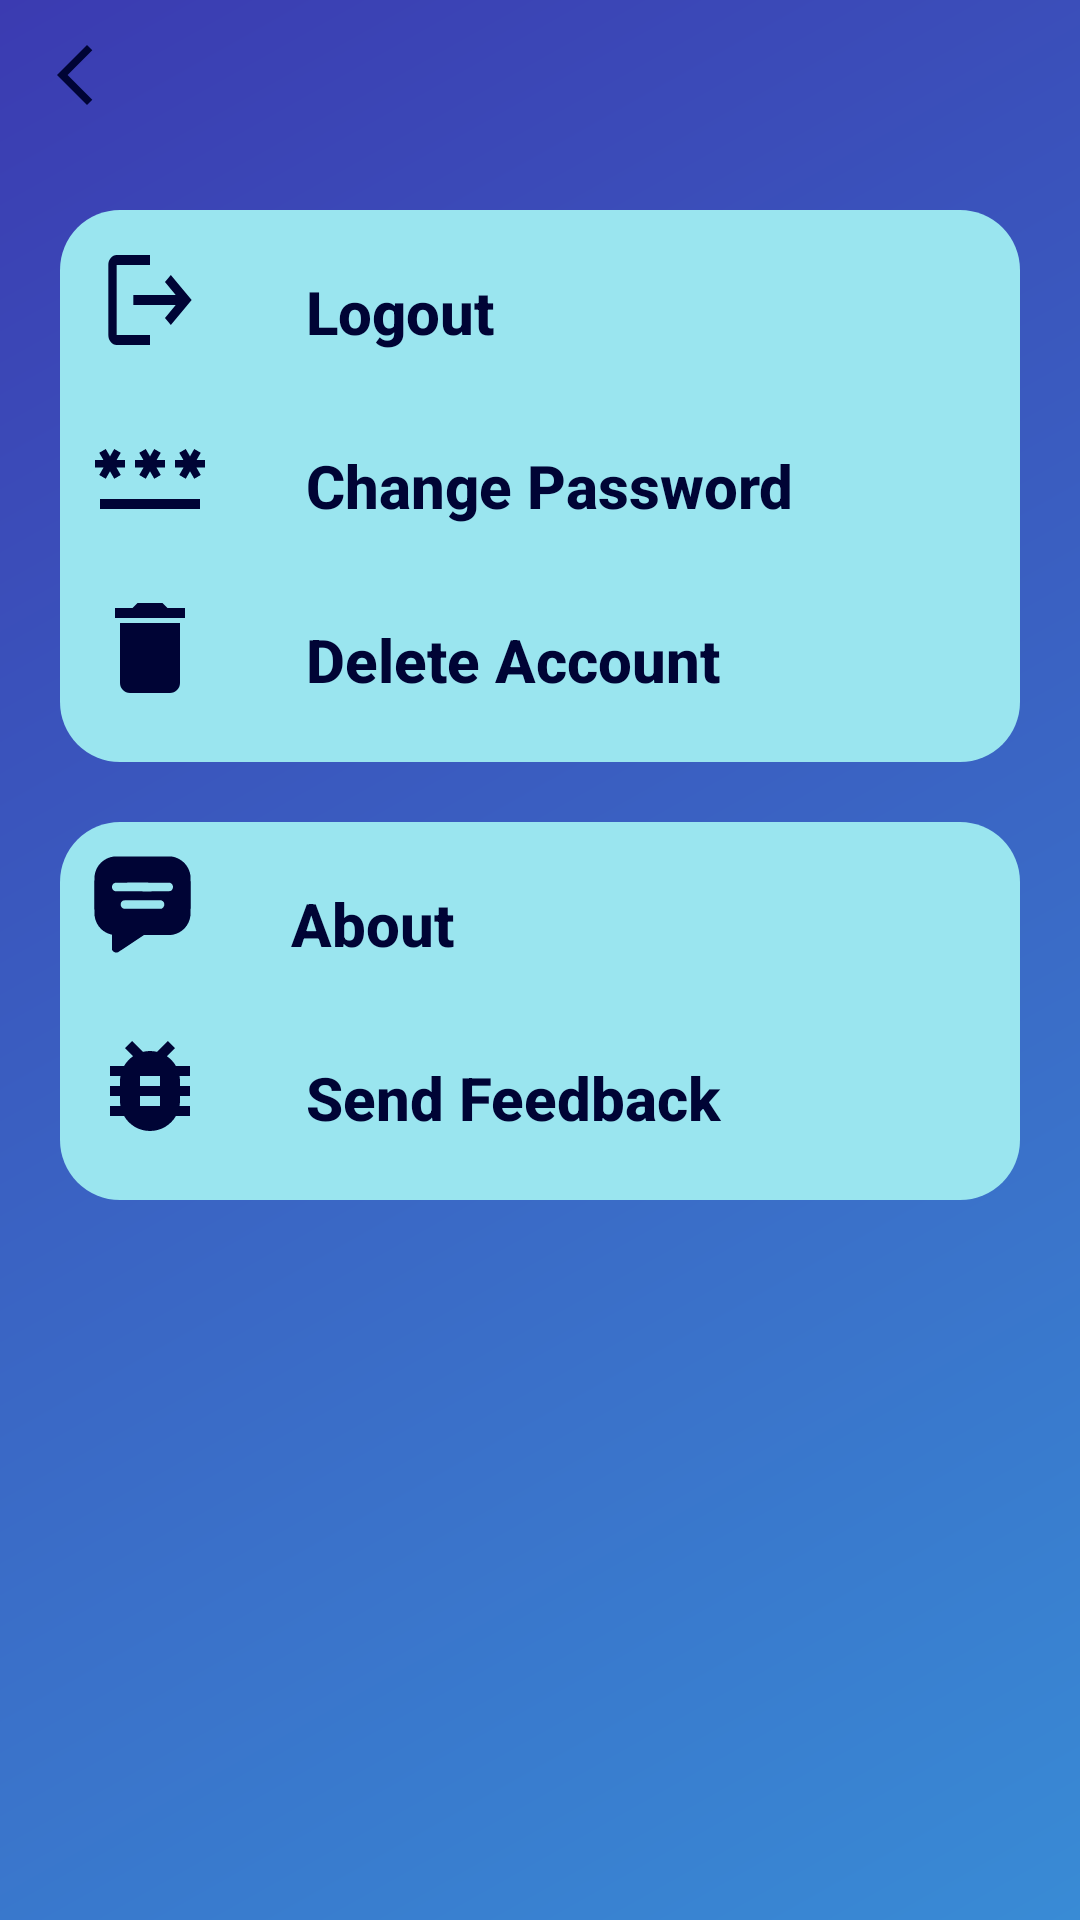

Screen size 1080*1920. Icon name, then its center in pixels as point (x, y):
arrow back: point (74, 75)
bug report: point (150, 1086)
contact us: point (142, 904)
delete darkest: point (150, 648)
